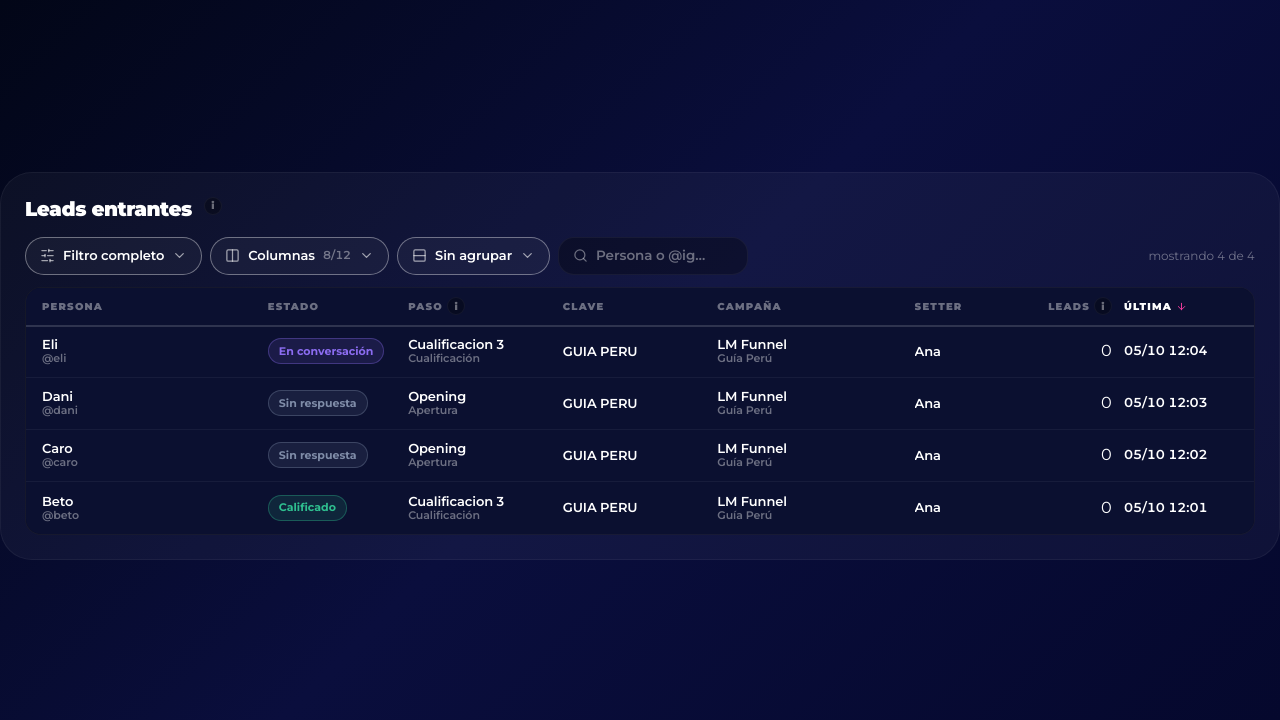
Scenario: Marketing › Entrantes › la fila abre el historial de la persona
The width and height of the screenshot is (1280, 720).
What coordinates should you click on to do the following:
click the text "Caro"
I would click on:
 (57, 448)
Its box is [42,440,73,456].
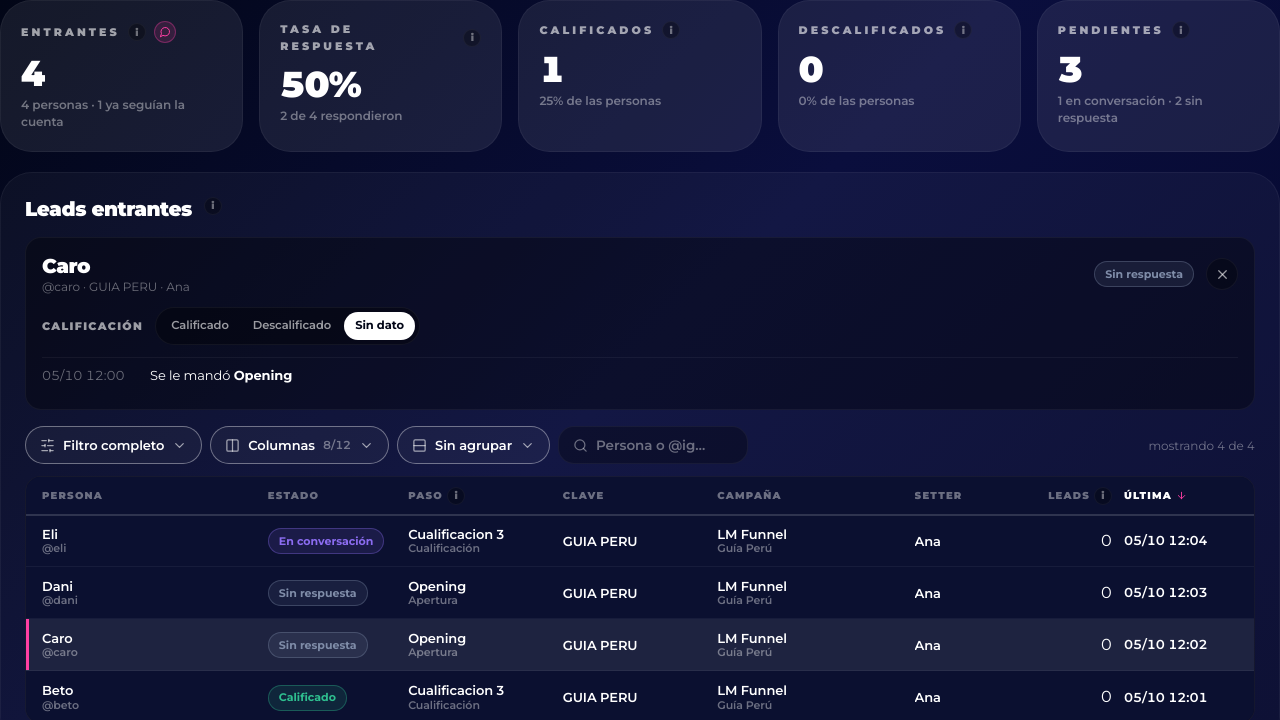
expect the text "Opening" next to "Se le mandó" is shown: met, box [234,367,292,383]
